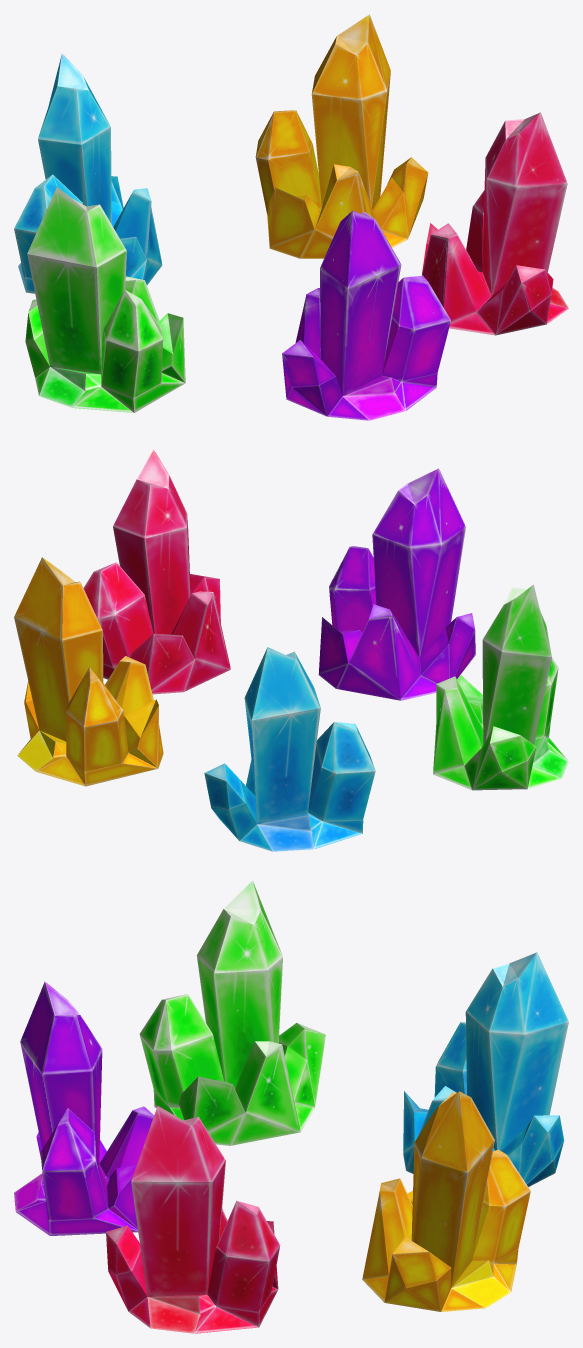
File: uploads_files_742894_LargeCrystalClusterSet.fbx
The picture shows the model from 3 angles, top to bottom: view 1: azimuth 30°, elevation 25°; view 2: azimuth 150°, elevation 25°; view 3: azimuth 270°, elevation 25°; orthographic projection. The views are drawn at different scales.
Visible parts, largest first — view 1: Large Crystals 1.002, Large Crystals 1.001, Large Crystals 1, Large Crystals 1.003, Large Crystals 1.004; view 2: Large Crystals 1, Large Crystals 1.001, Large Crystals 1.004, Large Crystals 1.003, Large Crystals 1.002; view 3: Large Crystals 1.002, Large Crystals 1.003, Large Crystals 1.001, Large Crystals 1, Large Crystals 1.004.
Part boxes in pixels (x1,y1,x2,y2): Large Crystals 1.002: (25,186,185,412); Large Crystals 1.001: (255,14,428,258); Large Crystals 1: (282,210,450,420); Large Crystals 1.003: (422,112,568,335); Large Crystals 1.004: (14,53,162,293); Large Crystals 1: (318,468,475,700); Large Crystals 1.001: (14,557,163,786); Large Crystals 1.004: (204,647,375,851); Large Crystals 1.003: (83,449,230,694); Large Crystals 1.002: (433,584,568,790); Large Crystals 1.002: (139,880,325,1145); Large Crystals 1.003: (106,1105,280,1333); Large Crystals 1.001: (362,1091,530,1311); Large Crystals 1: (14,981,153,1235); Large Crystals 1.004: (403,952,568,1186).
Bounding box in the file's own units: 608 × 663 × 254.
